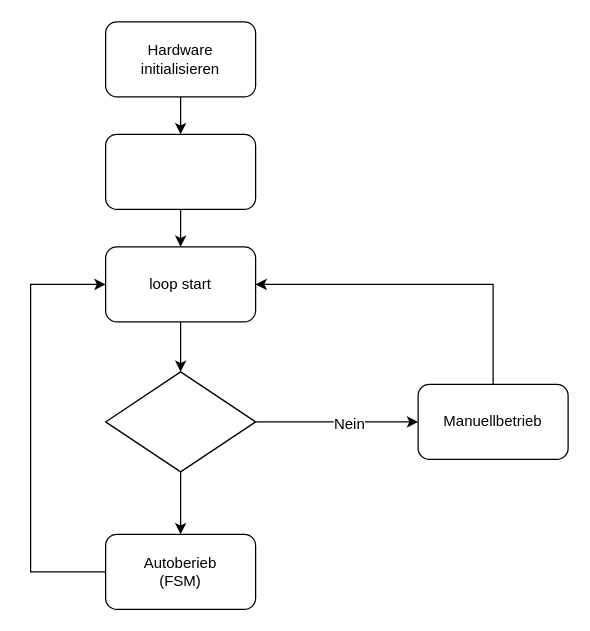
The diagram is 590 pixels wide and 631 high, and some of its shapes have lost their labels. Each missing label, with the centre of its shape:
"Automodus?" goes at (180,421).
"Software initialisieren" goes at (180,171).
